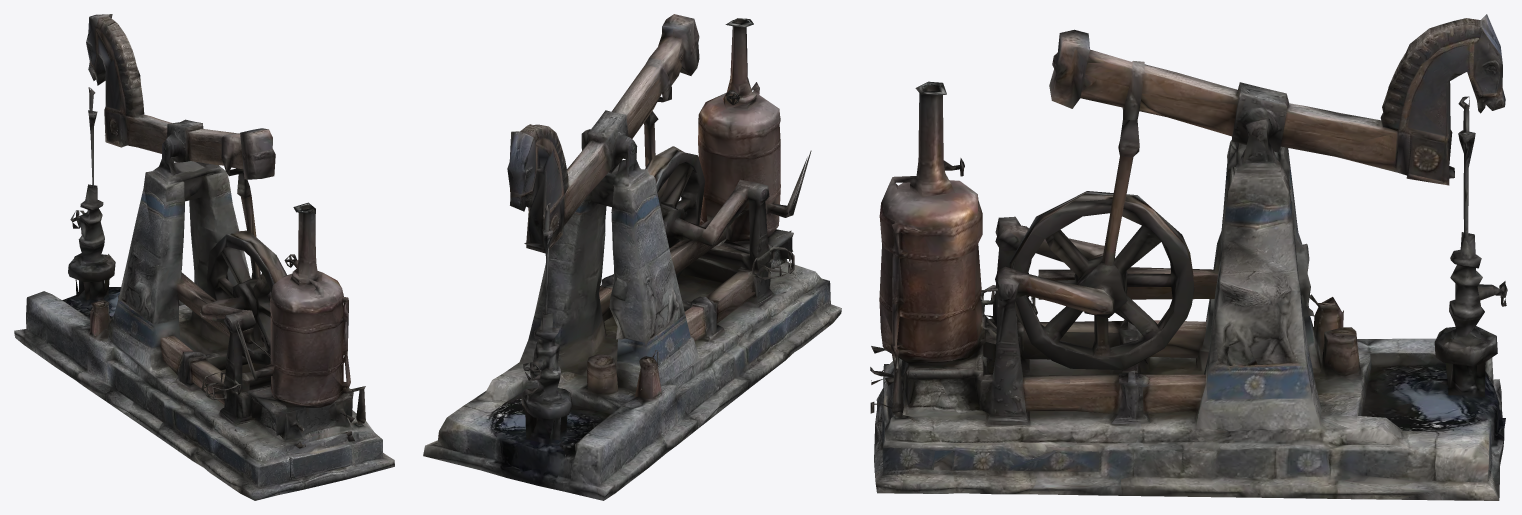
Rendered from oil_well_1.glb.
The picture shows the model from 3 angles, left to right: view 1: azimuth 30°, elevation 25°; view 2: azimuth 150°, elevation 25°; view 3: azimuth 270°, elevation 25°; orthographic projection. The views are drawn at different scales.
Visible parts, largest first — view 1: tripo_node_b64cc2ba-2056-4a8d-970a-7ff0eeca274b; view 2: tripo_node_b64cc2ba-2056-4a8d-970a-7ff0eeca274b; view 3: tripo_node_b64cc2ba-2056-4a8d-970a-7ff0eeca274b.
Boxes of the visible parts, <box> form: tripo_node_b64cc2ba-2056-4a8d-970a-7ff0eeca274b: <box>14,14,394,500</box>; tripo_node_b64cc2ba-2056-4a8d-970a-7ff0eeca274b: <box>423,14,841,500</box>; tripo_node_b64cc2ba-2056-4a8d-970a-7ff0eeca274b: <box>870,14,1507,500</box>.
Bounding box in the file's own units: 0.399 × 0.7085 × 0.9659.
1 material, 1 textured.
